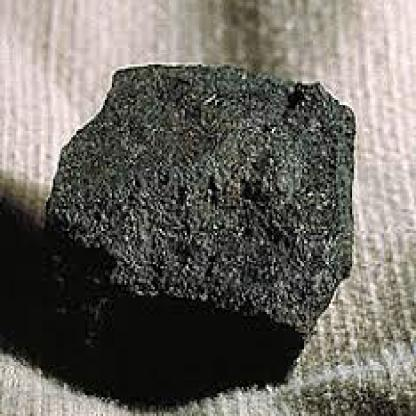Sedimentary_coal: (38, 60, 364, 393)
